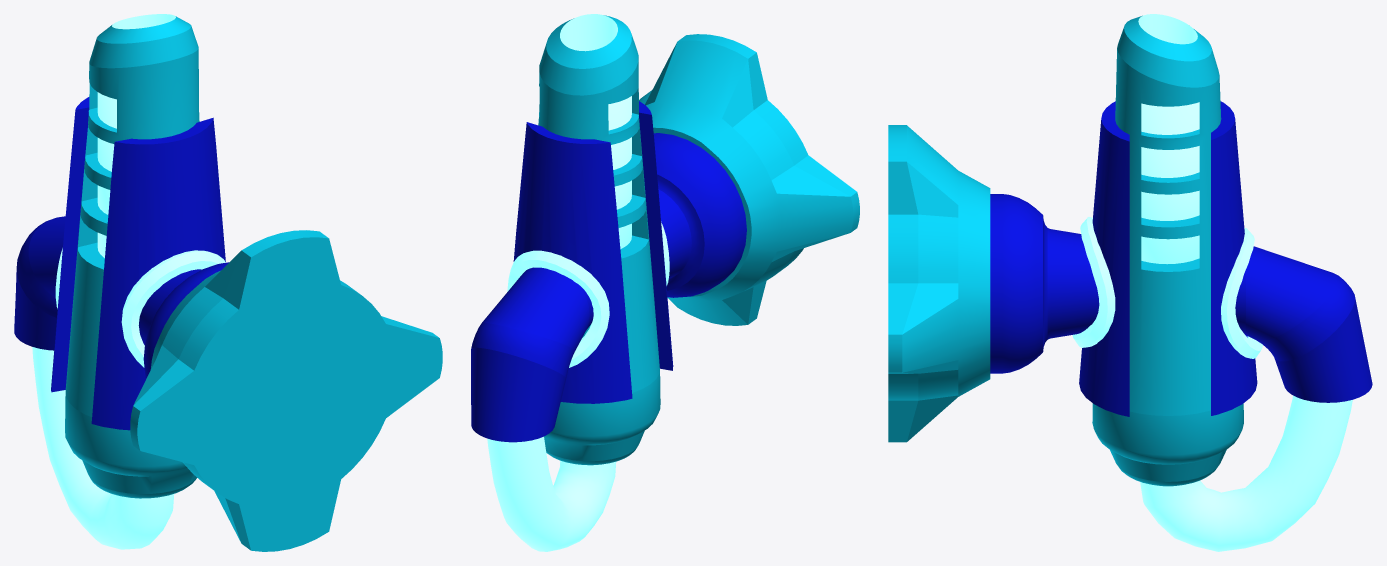
Rendered from CryoCanon2.fbx.
3 renders of one model, left to right at view 1: azimuth 30°, elevation 25°; view 2: azimuth 150°, elevation 25°; view 3: azimuth 270°, elevation 25°, orthographic. The views are drawn at different scales.
Parts seen in each view (by area): view 1: JA, Cylinder, Cylinder.002, Plane.001, Cylinder.001, Cylinder.002_Curve.001, mid; view 2: JA, Cylinder.001, Cylinder, Cylinder.002, Plane.001, Cylinder.002_Curve, mid; view 3: Cylinder, Cylinder.001, JA, Cylinder.002, Plane.001, mid, Cylinder.002_Curve.001, Cylinder.002_Curve.
Boxes of the visible parts, bbox=[...] form: JA: bbox=[130, 230, 442, 551]; Cylinder: bbox=[65, 14, 199, 498]; Cylinder.002: bbox=[51, 97, 225, 430]; Plane.001: bbox=[32, 347, 174, 549]; Cylinder.001: bbox=[14, 216, 228, 379]; Cylinder.002_Curve.001: bbox=[121, 250, 225, 367]; mid: bbox=[97, 92, 116, 257]; JA: bbox=[639, 34, 859, 325]; Cylinder.001: bbox=[471, 133, 746, 442]; Cylinder: bbox=[538, 14, 660, 465]; Cylinder.002: bbox=[513, 101, 673, 403]; Plane.001: bbox=[487, 436, 616, 551]; Cylinder.002_Curve: bbox=[507, 250, 609, 367]; mid: bbox=[608, 96, 631, 248]; Cylinder: bbox=[1092, 14, 1243, 486]; Cylinder.001: bbox=[990, 194, 1372, 402]; JA: bbox=[888, 125, 990, 442]; Cylinder.002: bbox=[1079, 101, 1257, 416]; Plane.001: bbox=[1140, 395, 1352, 551]; mid: bbox=[1141, 102, 1199, 264]; Cylinder.002_Curve.001: bbox=[1072, 217, 1115, 347]; Cylinder.002_Curve: bbox=[1221, 228, 1262, 358].
Size of the model in its own units: 1669 by 2880 by 2394.
